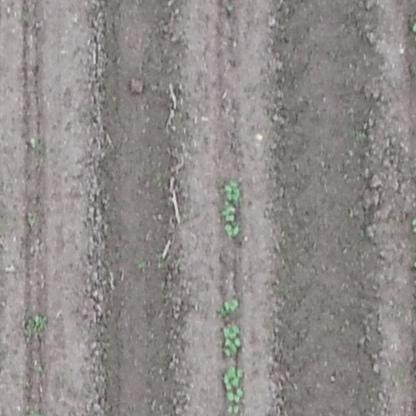vc: (224, 324, 242, 355), (223, 365, 245, 388), (224, 178, 242, 200), (223, 293, 243, 312), (220, 203, 237, 222), (221, 224, 243, 238), (225, 391, 246, 403)
